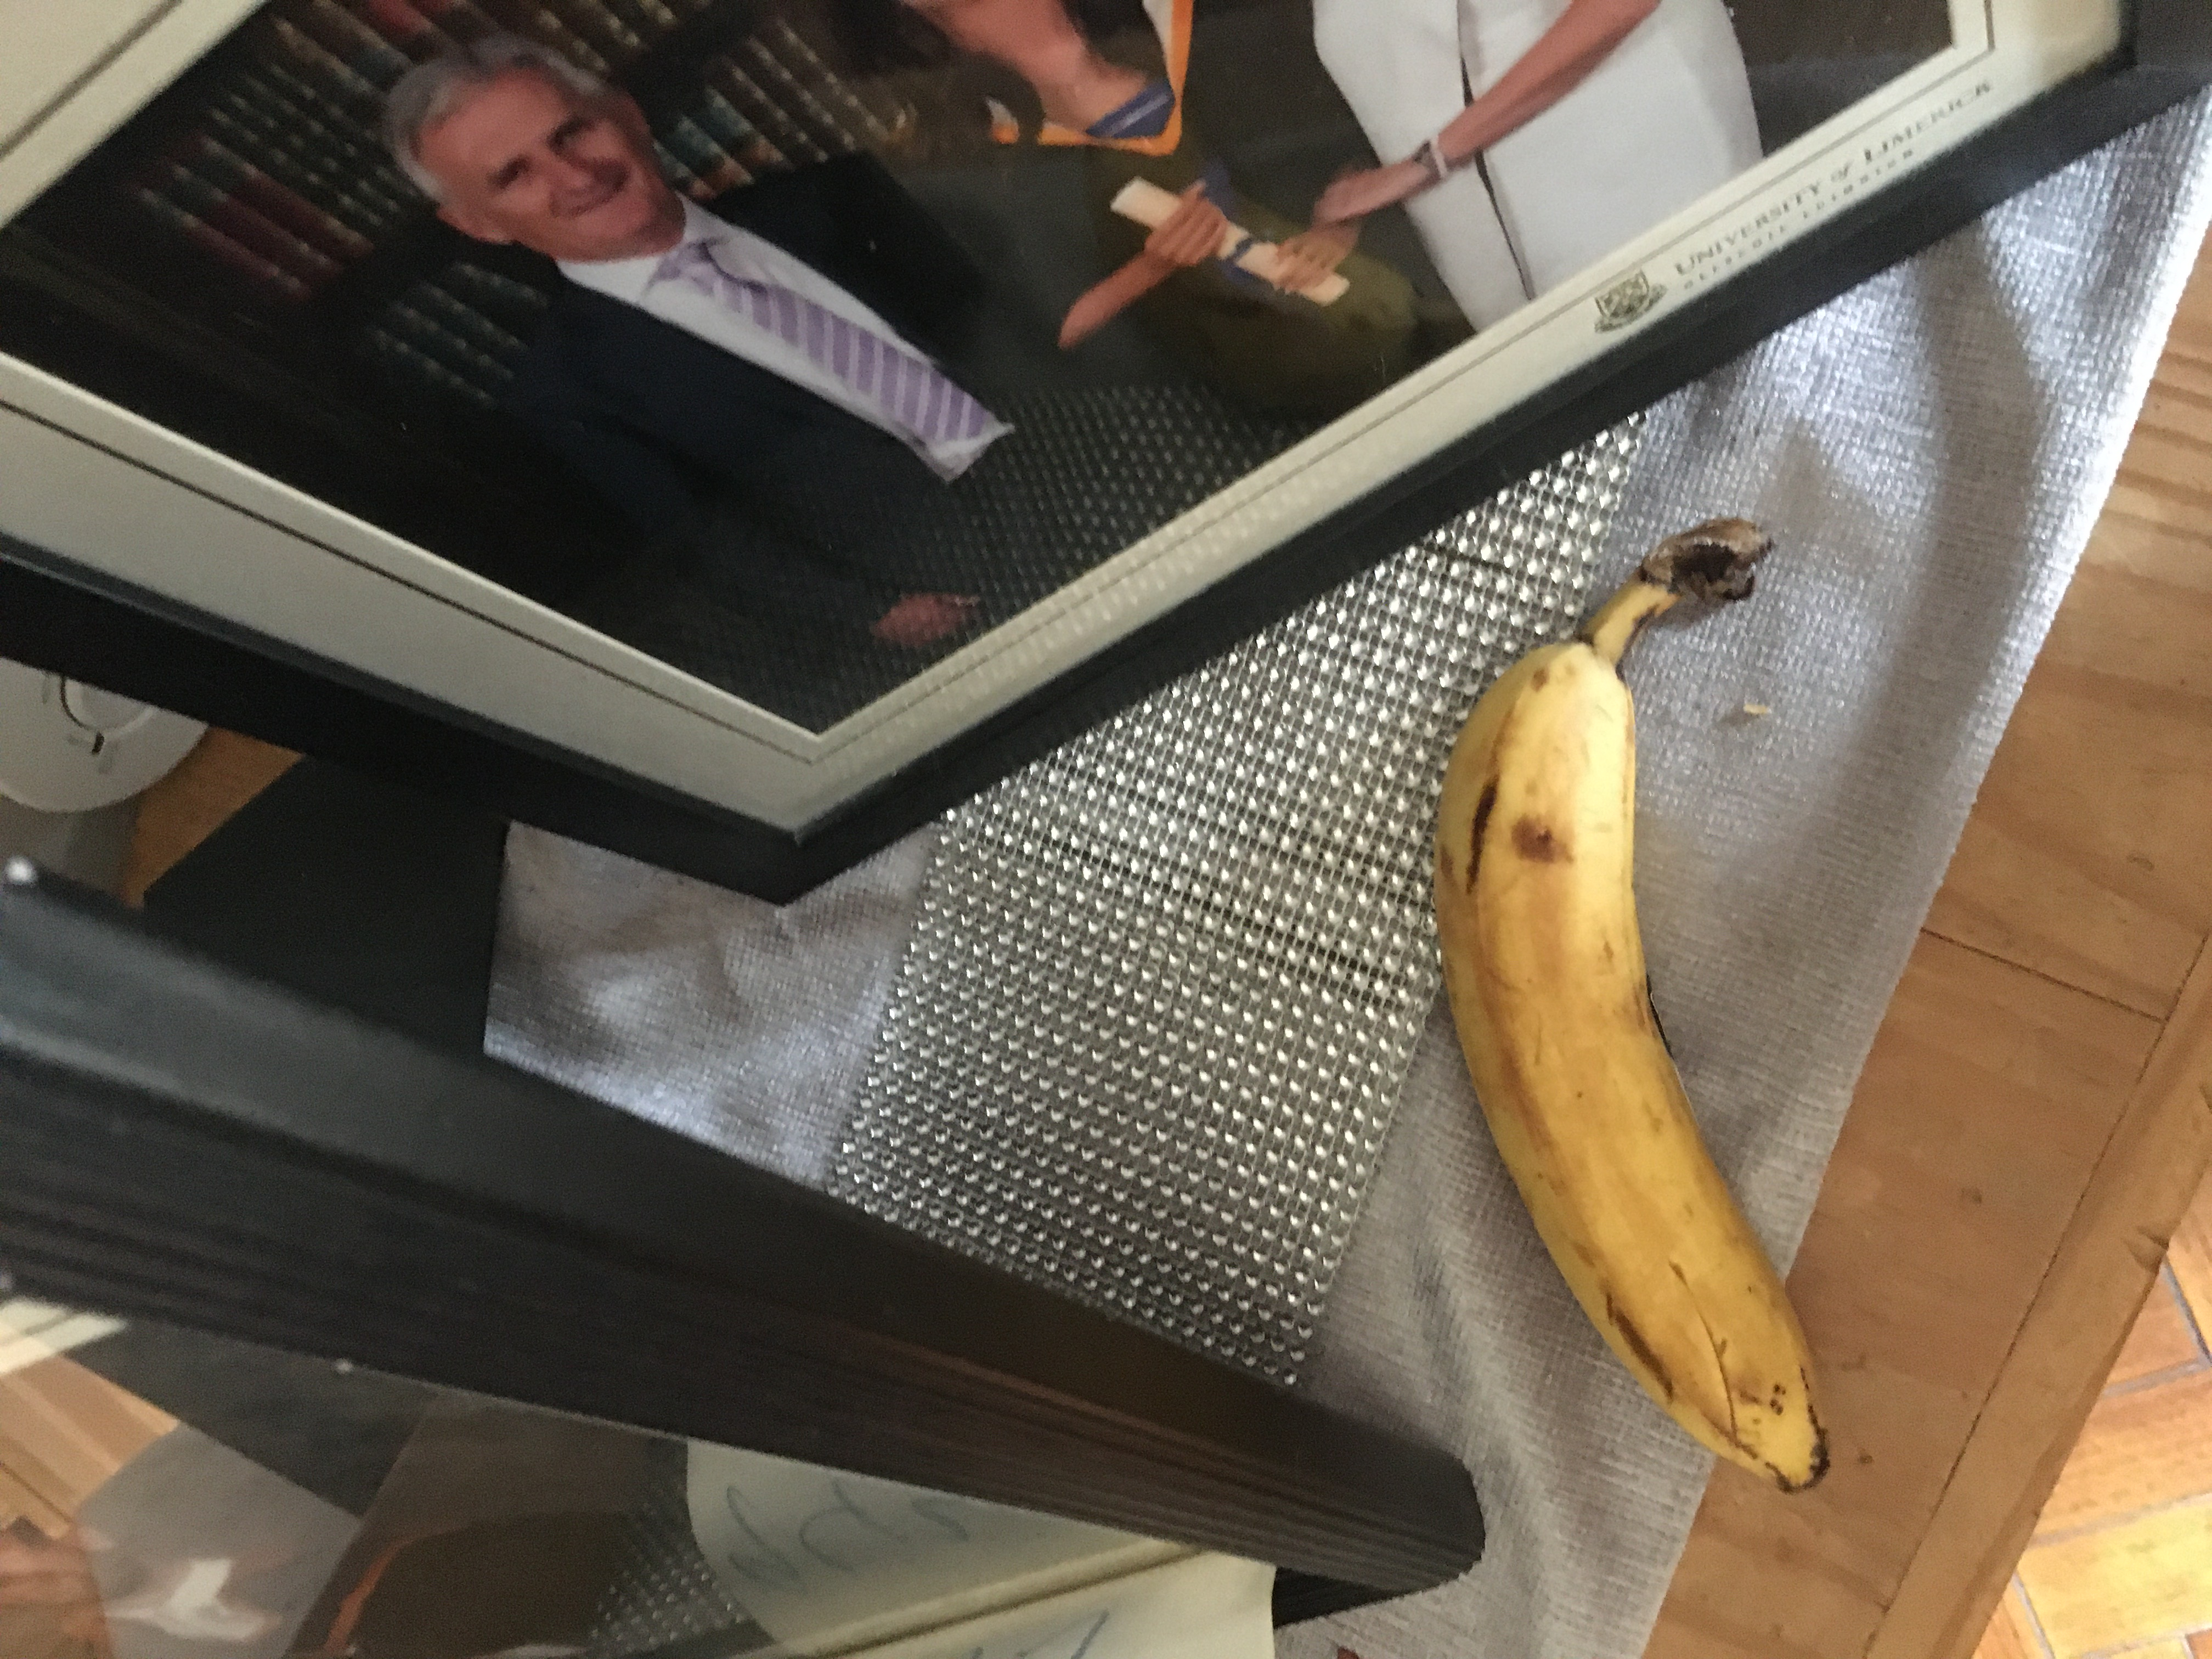banana_90kcal: (1418, 516, 1846, 1507)
